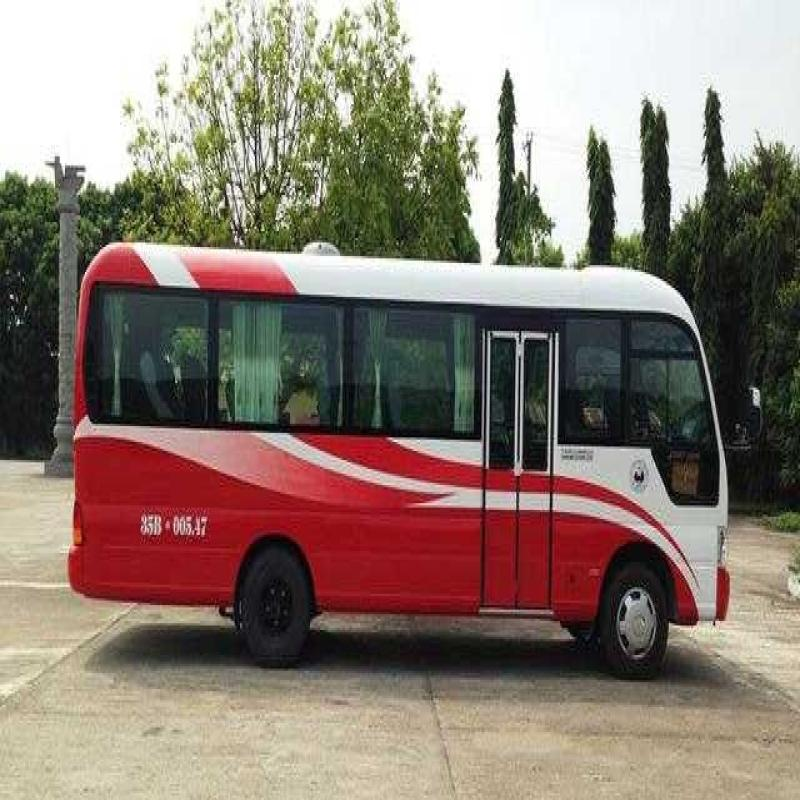bus: (60, 195, 744, 706)
